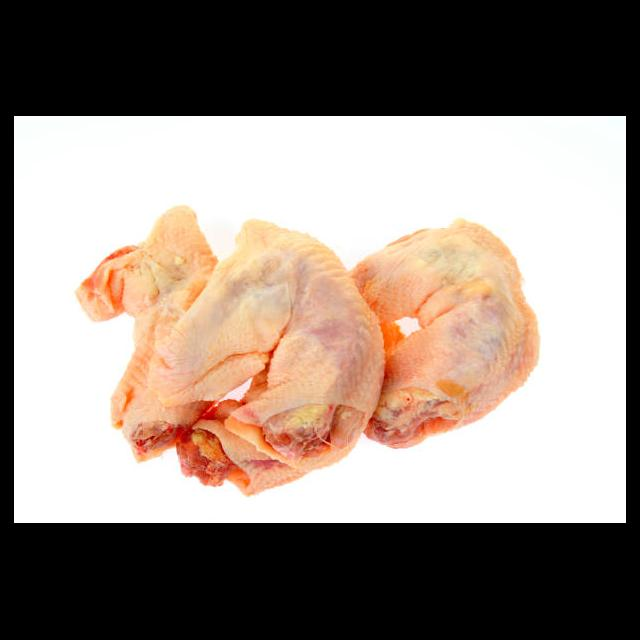chicken: (161, 220, 369, 464), (357, 222, 540, 444), (75, 205, 226, 468)
